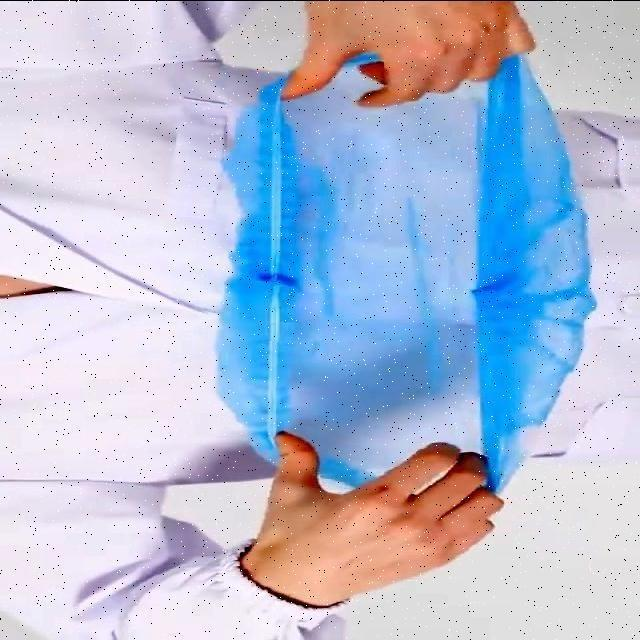no_apron: (253, 434, 498, 594), (268, 0, 533, 107)
